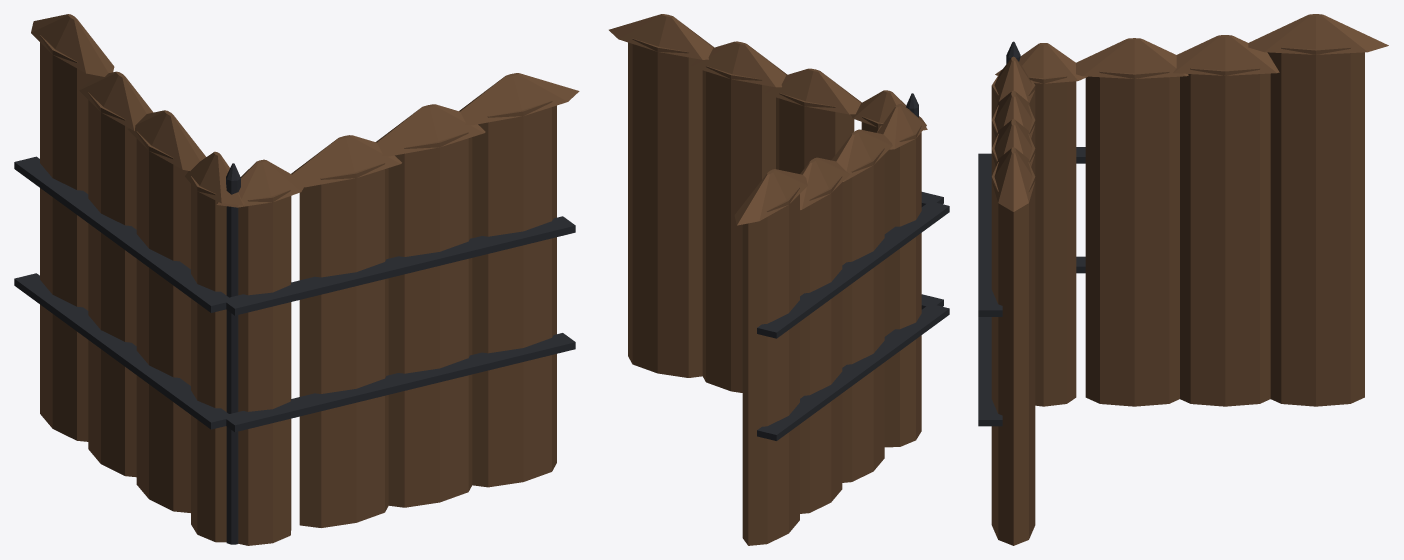
The model's file is SM_Fence_KeepPalisade_03_Corner.glb.
3 renders of one model, left to right at view 1: azimuth 30°, elevation 25°; view 2: azimuth 150°, elevation 25°; view 3: azimuth 270°, elevation 25°, orthographic. The views are drawn at different scales.
Parts seen in each view (by area): view 1: SM_Fence_KeepPalisade_03_Corner_X_Log3, SM_Fence_KeepPalisade_03_Corner_X_Log1, SM_Fence_KeepPalisade_03_Corner_X_Log2, SM_Fence_KeepPalisade_03_Corner_X_Log0, SM_Fence_KeepPalisade_03_Corner_Y_Log1, SM_Fence_KeepPalisade_03_Corner_Y_Log3, SM_Fence_KeepPalisade_03_Corner_Y_Log2, SM_Fence_KeepPalisade_03_Corner_Y_Log0, SM_Fence_KeepPalisade_03_Corner_X_Strap1, SM_Fence_KeepPalisade_03_Corner_X_Strap0, SM_Fence_KeepPalisade_03_Corner_Y_Strap0, SM_Fence_KeepPalisade_03_Corner_Y_Strap1 (+9 smaller); view 2: SM_Fence_KeepPalisade_03_Corner_X_Log3, SM_Fence_KeepPalisade_03_Corner_Y_Log3, SM_Fence_KeepPalisade_03_Corner_X_Log2, SM_Fence_KeepPalisade_03_Corner_Y_Log2, SM_Fence_KeepPalisade_03_Corner_Y_Log1, SM_Fence_KeepPalisade_03_Corner_Y_Log0, SM_Fence_KeepPalisade_03_Corner_X_Log1, SM_Fence_KeepPalisade_03_Corner_Y_Strap0, SM_Fence_KeepPalisade_03_Corner_Y_Strap1, SM_Fence_KeepPalisade_03_Corner_X_Log3_Tip, SM_Fence_KeepPalisade_03_Corner_X_Log1_Tip, SM_Fence_KeepPalisade_03_Corner_X_Log2_Tip (+5 smaller); view 3: SM_Fence_KeepPalisade_03_Corner_Y_Log3, SM_Fence_KeepPalisade_03_Corner_Y_Log1, SM_Fence_KeepPalisade_03_Corner_Y_Log2, SM_Fence_KeepPalisade_03_Corner_X_Log3, SM_Fence_KeepPalisade_03_Corner_Y_Log0, SM_Fence_KeepPalisade_03_Corner_Y_Log3_Tip, SM_Fence_KeepPalisade_03_Corner_Y_Log1_Tip, SM_Fence_KeepPalisade_03_Corner_Y_Log2_Tip, SM_Fence_KeepPalisade_03_Corner_X_Strap1, SM_Fence_KeepPalisade_03_Corner_X_Log3_Tip, SM_Fence_KeepPalisade_03_Corner_X_Strap0, SM_Fence_KeepPalisade_03_Corner_Y_Log0_Tip (+3 smaller).
Part boxes in pixels (x1,y1,x2,y2): SM_Fence_KeepPalisade_03_Corner_X_Log3: (472,101,556,487); SM_Fence_KeepPalisade_03_Corner_X_Log1: (299,163,388,527); SM_Fence_KeepPalisade_03_Corner_X_Log2: (388,132,472,507); SM_Fence_KeepPalisade_03_Corner_X_Log0: (238,190,291,545); SM_Fence_KeepPalisade_03_Corner_Y_Log1: (136,131,190,512); SM_Fence_KeepPalisade_03_Corner_Y_Log3: (40,35,97,441); SM_Fence_KeepPalisade_03_Corner_Y_Log2: (88,92,136,477); SM_Fence_KeepPalisade_03_Corner_Y_Log0: (191,176,226,542); SM_Fence_KeepPalisade_03_Corner_X_Strap1: (222,216,575,315); SM_Fence_KeepPalisade_03_Corner_X_Strap0: (223,333,575,432); SM_Fence_KeepPalisade_03_Corner_Y_Strap0: (14,273,232,429); SM_Fence_KeepPalisade_03_Corner_Y_Strap1: (14,156,232,312); SM_Fence_KeepPalisade_03_Corner_X_Log3: (628,38,702,377); SM_Fence_KeepPalisade_03_Corner_Y_Log3: (742,187,799,545); SM_Fence_KeepPalisade_03_Corner_X_Log2: (702,66,775,392); SM_Fence_KeepPalisade_03_Corner_Y_Log2: (800,176,842,513); SM_Fence_KeepPalisade_03_Corner_Y_Log1: (842,148,884,482); SM_Fence_KeepPalisade_03_Corner_Y_Log0: (876,125,921,447); SM_Fence_KeepPalisade_03_Corner_X_Log1: (776,93,854,173); SM_Fence_KeepPalisade_03_Corner_Y_Strap0: (757,303,949,440); SM_Fence_KeepPalisade_03_Corner_Y_Strap1: (757,201,949,338); SM_Fence_KeepPalisade_03_Corner_X_Log3_Tip: (609,14,713,59); SM_Fence_KeepPalisade_03_Corner_X_Log1_Tip: (764,68,861,114); SM_Fence_KeepPalisade_03_Corner_X_Log2_Tip: (691,41,787,87); SM_Fence_KeepPalisade_03_Corner_Y_Log3: (1267,47,1364,406); SM_Fence_KeepPalisade_03_Corner_Y_Log1: (1085,71,1179,406); SM_Fence_KeepPalisade_03_Corner_Y_Log2: (1180,68,1270,406); SM_Fence_KeepPalisade_03_Corner_X_Log3: (991,162,1035,545); SM_Fence_KeepPalisade_03_Corner_Y_Log0: (1028,76,1076,406); SM_Fence_KeepPalisade_03_Corner_Y_Log3_Tip: (1248,14,1388,54); SM_Fence_KeepPalisade_03_Corner_Y_Log1_Tip: (1076,38,1188,78); SM_Fence_KeepPalisade_03_Corner_Y_Log2_Tip: (1173,35,1279,75); SM_Fence_KeepPalisade_03_Corner_X_Strap1: (978,153,1002,316); SM_Fence_KeepPalisade_03_Corner_X_Log3_Tip: (992,147,1034,211); SM_Fence_KeepPalisade_03_Corner_X_Strap0: (978,317,1002,426); SM_Fence_KeepPalisade_03_Corner_Y_Log0_Tip: (995,43,1087,83).
Bounding box in the file's own units: 1.7 × 1.74 × 1.7.
